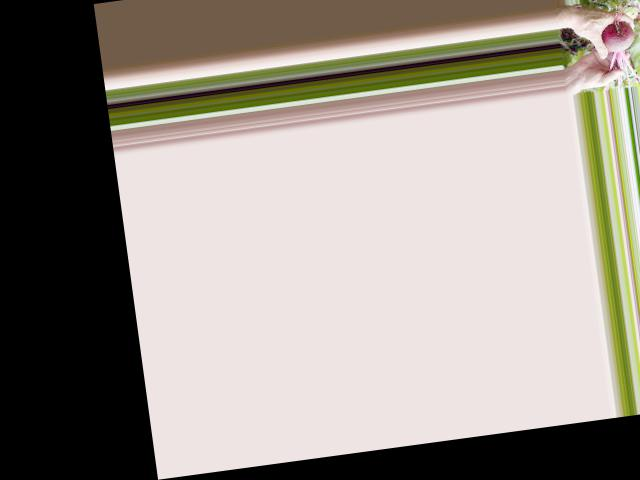beet: (598, 17, 640, 90)
